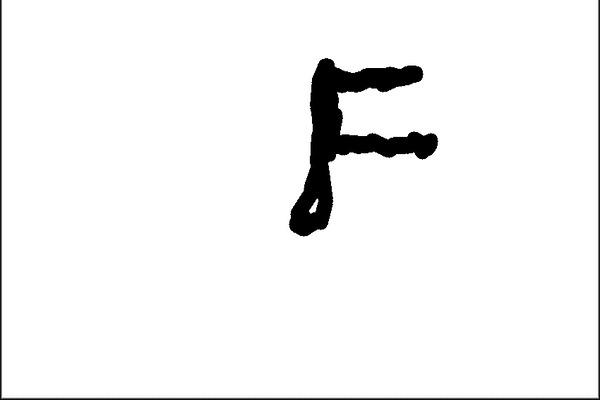F: (283, 53, 441, 240)
